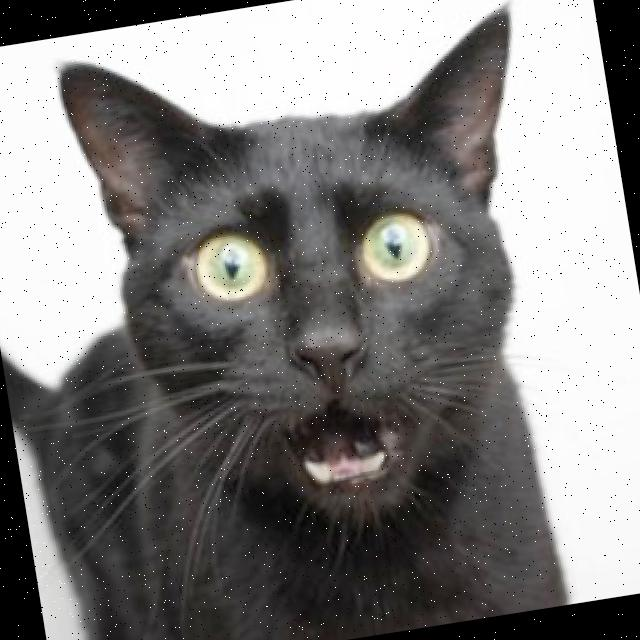Surprised: (149, 181, 498, 560)
